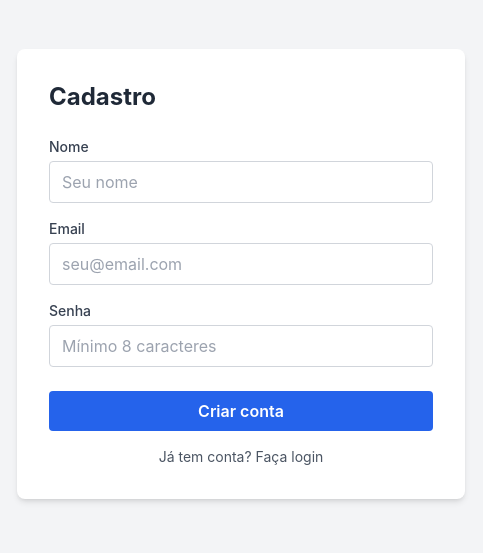
it: Register component › shows error when password is shorter than 8 characters
The image size is (483, 553).
Type "João" into the field labelled "Nome".
click(241, 182); type("João")  # box [49,161,433,203]
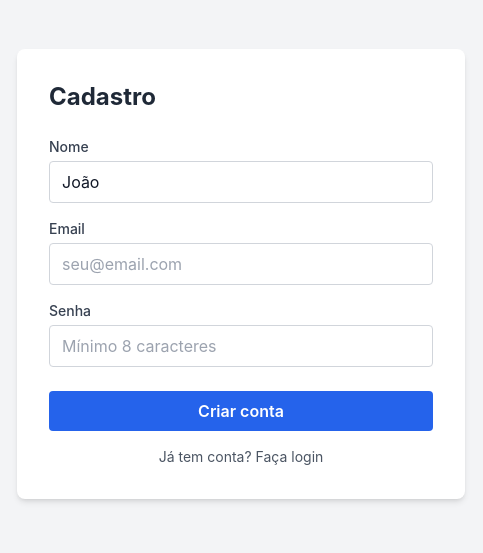
Type "joao@example.com" into the field labelled "Email".
click(241, 264); type("joao@example.com")  # box [49,243,433,285]
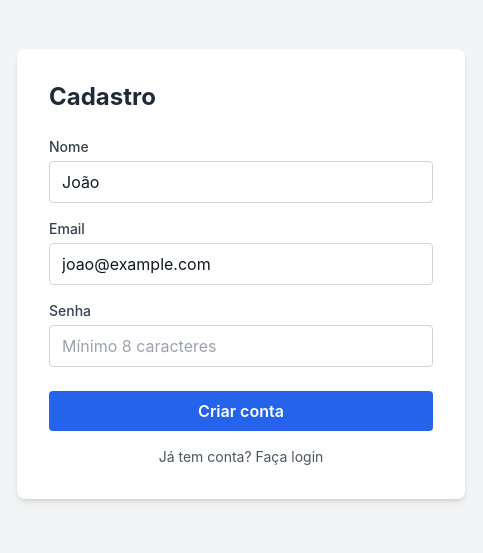
Type "1234567" into the password field labelled "Senha".
click(241, 346); type("1234567")  # box [49,325,433,367]
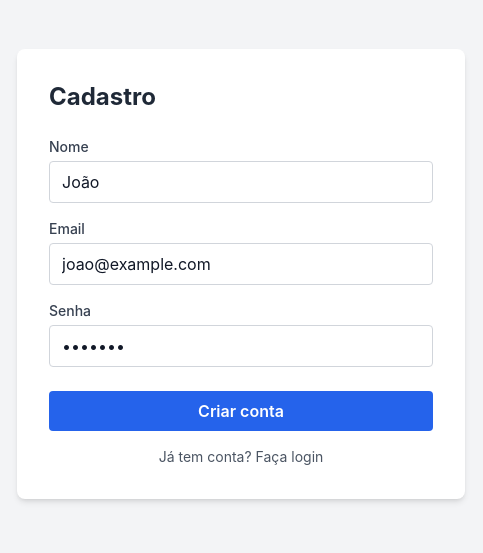
Click the button "Criar conta".
click(241, 411)  # box [49,391,433,431]
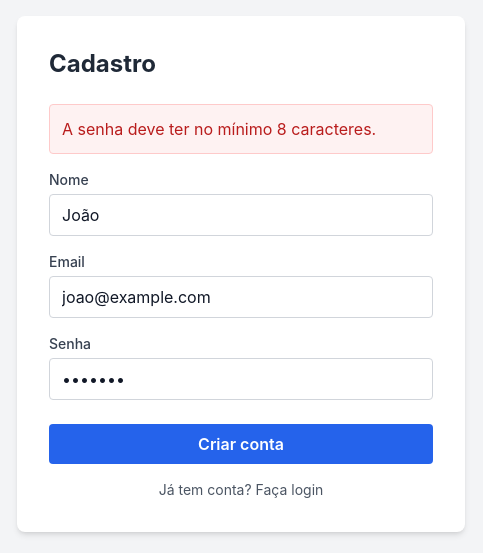
Expected: the text "A senha deve ter no mínimo 8 caracteres." is shown, [49,104,433,154]
